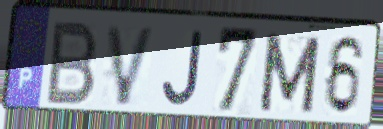6: (321, 34, 365, 119)
7: (215, 22, 260, 117)
B: (43, 19, 101, 107)
J: (159, 28, 206, 109)
M: (256, 30, 323, 116)
V: (105, 22, 159, 108)
